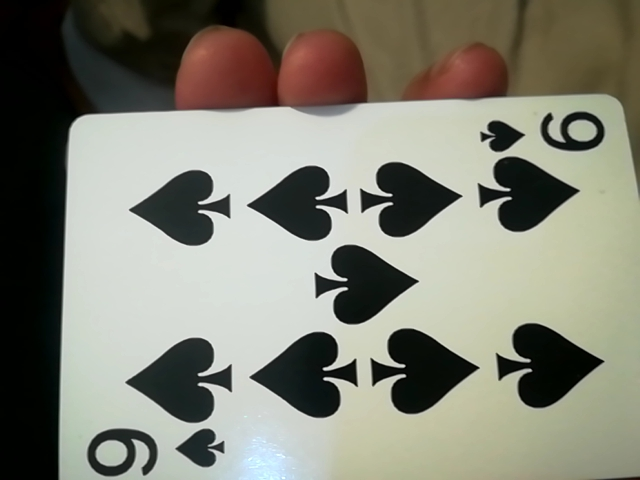ht 9: (46, 99, 629, 476)
